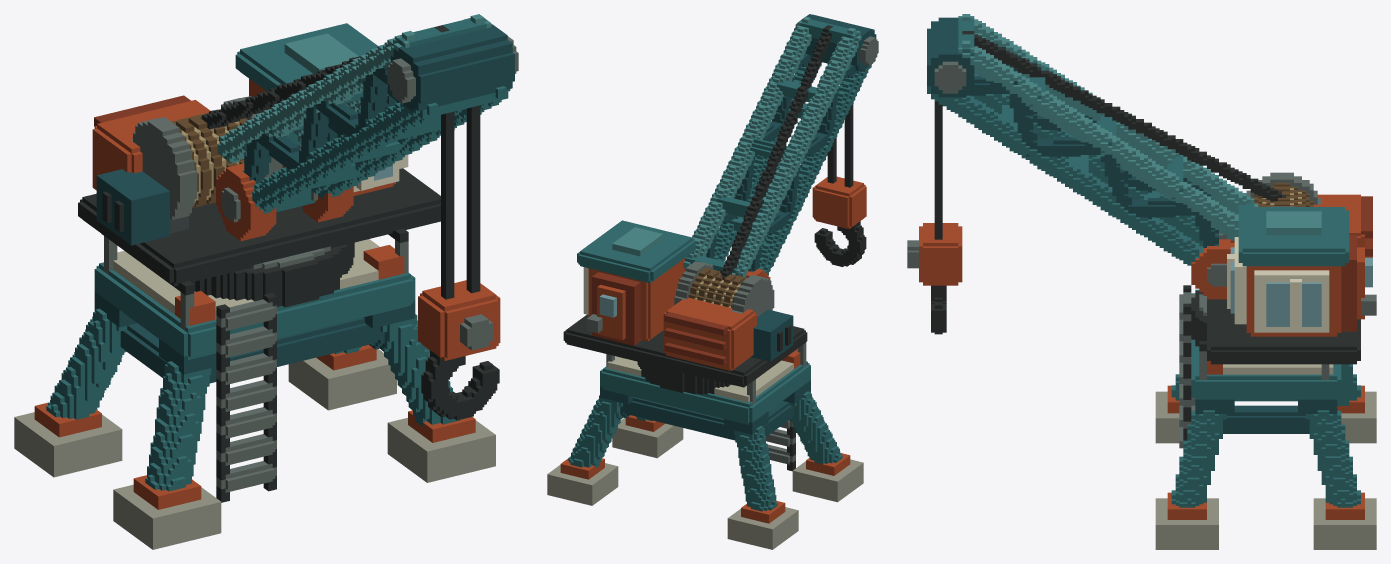
File: cargo_crane.glb
3 renders of one model, left to right at view 1: azimuth 30°, elevation 25°; view 2: azimuth 150°, elevation 25°; view 3: azimuth 270°, elevation 25°, orthographic. The views are drawn at different scales.
Visible parts, largest first — view 1: cargo_crane; view 2: cargo_crane; view 3: cargo_crane.
Part boxes in pixels (bbox=[...]): cargo_crane: bbox=[14, 14, 518, 549]; cargo_crane: bbox=[547, 14, 878, 549]; cargo_crane: bbox=[907, 14, 1376, 549].
Size of the model in its own units: 5.6 by 8.89 by 8.33.
